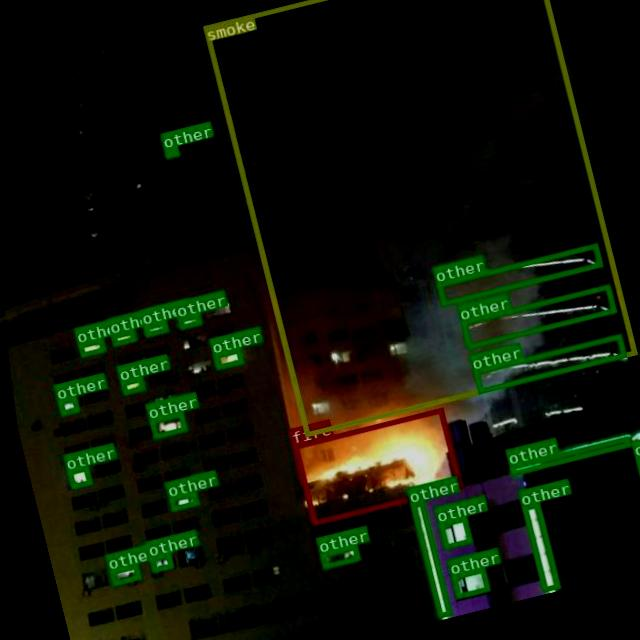fire: (292, 406, 462, 524)
smoke: (202, 0, 636, 435)
